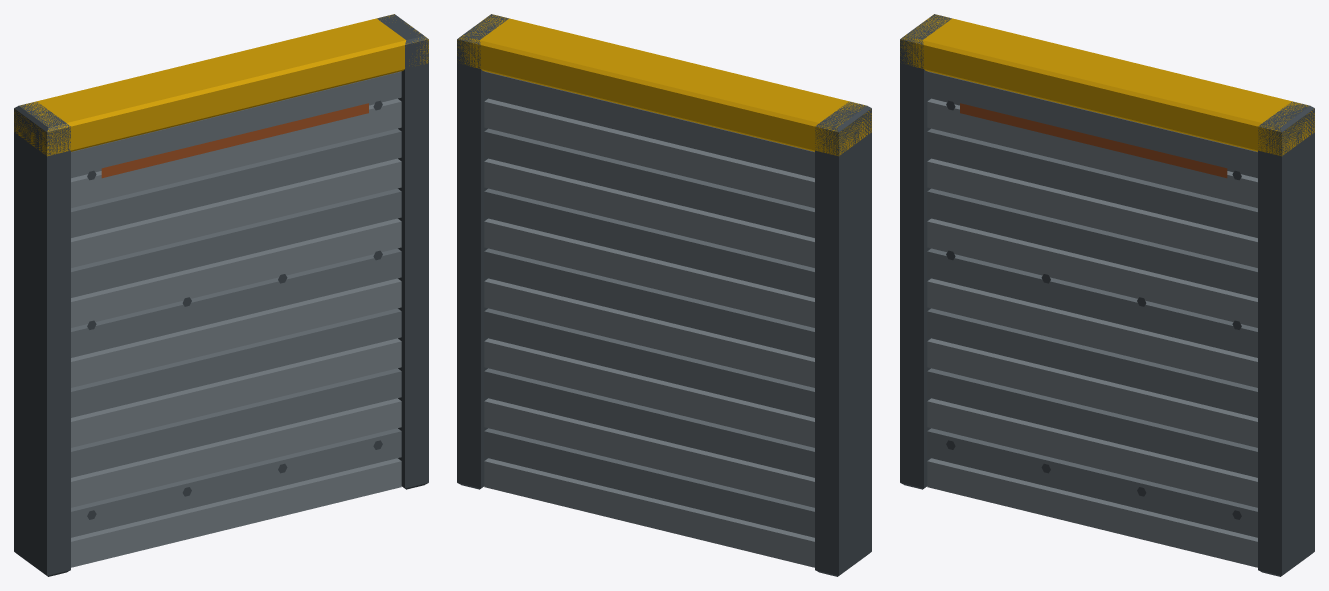
Rendered from boss_gate.fbx.
3 renders of one model, left to right at view 1: azimuth 30°, elevation 25°; view 2: azimuth 150°, elevation 25°; view 3: azimuth 330°, elevation 25°, orthographic.
Visible parts, largest first — view 1: boss_gate; view 2: boss_gate; view 3: boss_gate.
Boxes of the visible parts, box(x1,y1,x2,y2) form: boss_gate: box(14, 14, 428, 576); boss_gate: box(457, 14, 871, 576); boss_gate: box(900, 14, 1314, 576).
Bounding box in the file's own units: 4 × 4.5 × 0.6.
